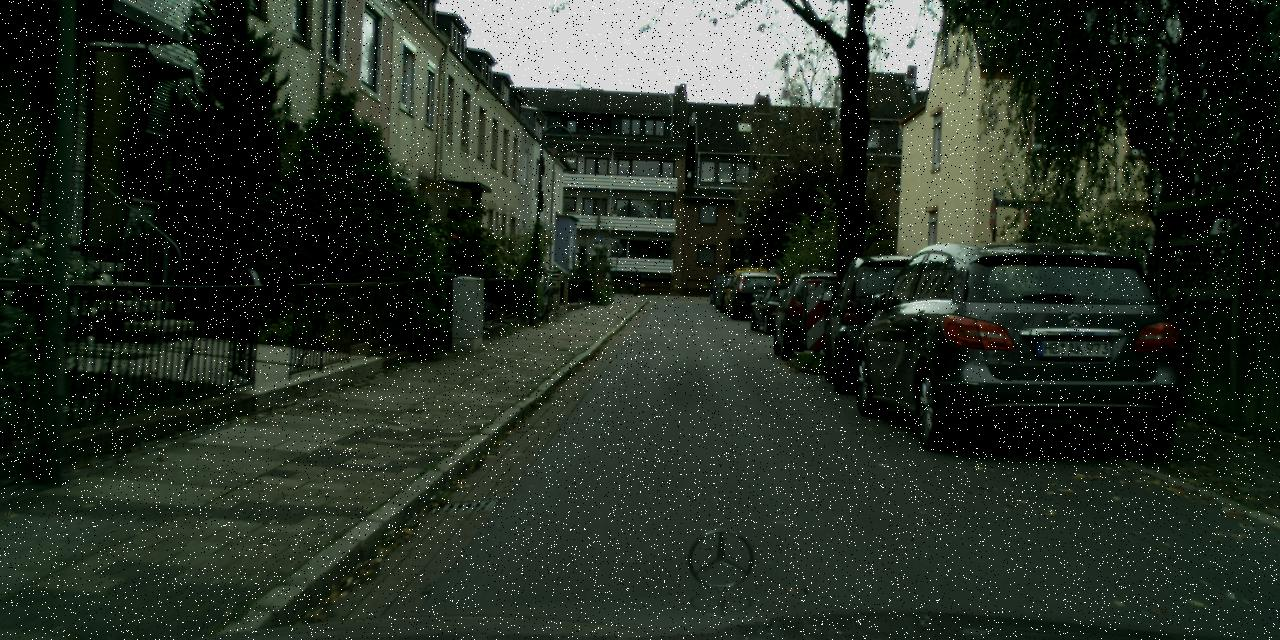ped: (630, 268, 639, 293)
